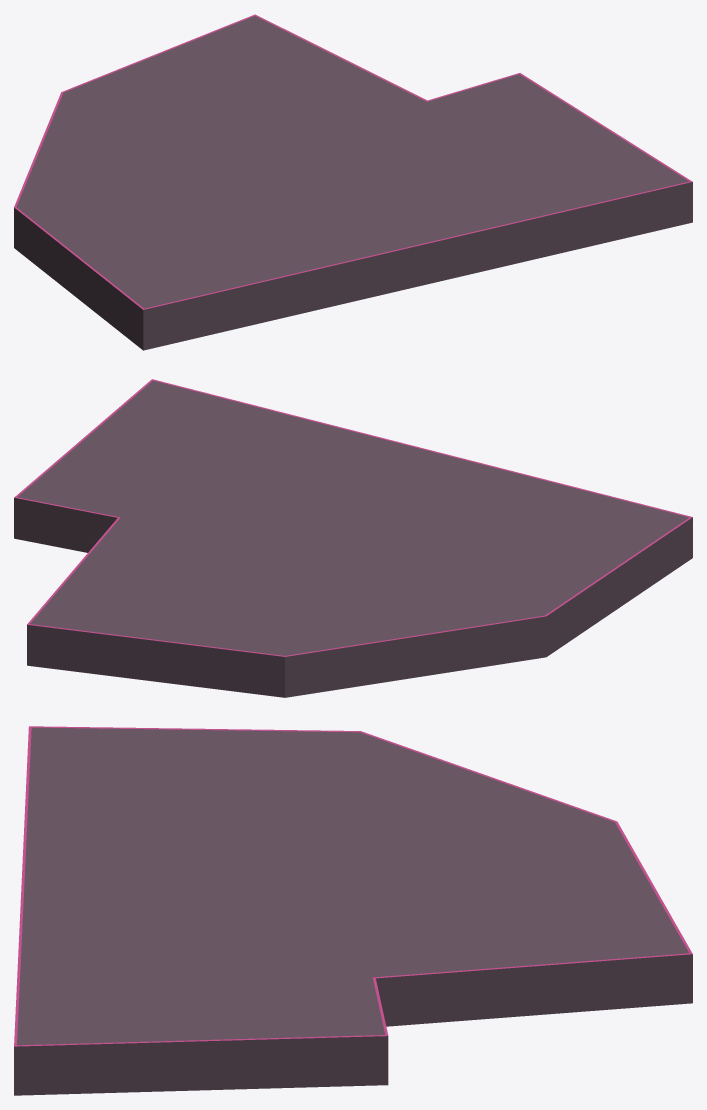
The model's file is way-205661093.glb.
The picture shows the model from 3 angles, top to bottom: view 1: azimuth 30°, elevation 25°; view 2: azimuth 150°, elevation 25°; view 3: azimuth 270°, elevation 25°; orthographic projection. The views are drawn at different scales.
Parts seen in each view (by area): view 1: way-205661093; view 2: way-205661093; view 3: way-205661093.
Boxes of the visible parts, x1=… form: way-205661093: x1=14, y1=14, x2=692, y2=350; way-205661093: x1=14, y1=379, x2=692, y2=697; way-205661093: x1=14, y1=726, x2=692, y2=1095.
Bounding box in the file's own units: 41.98 × 3 × 37.6.
